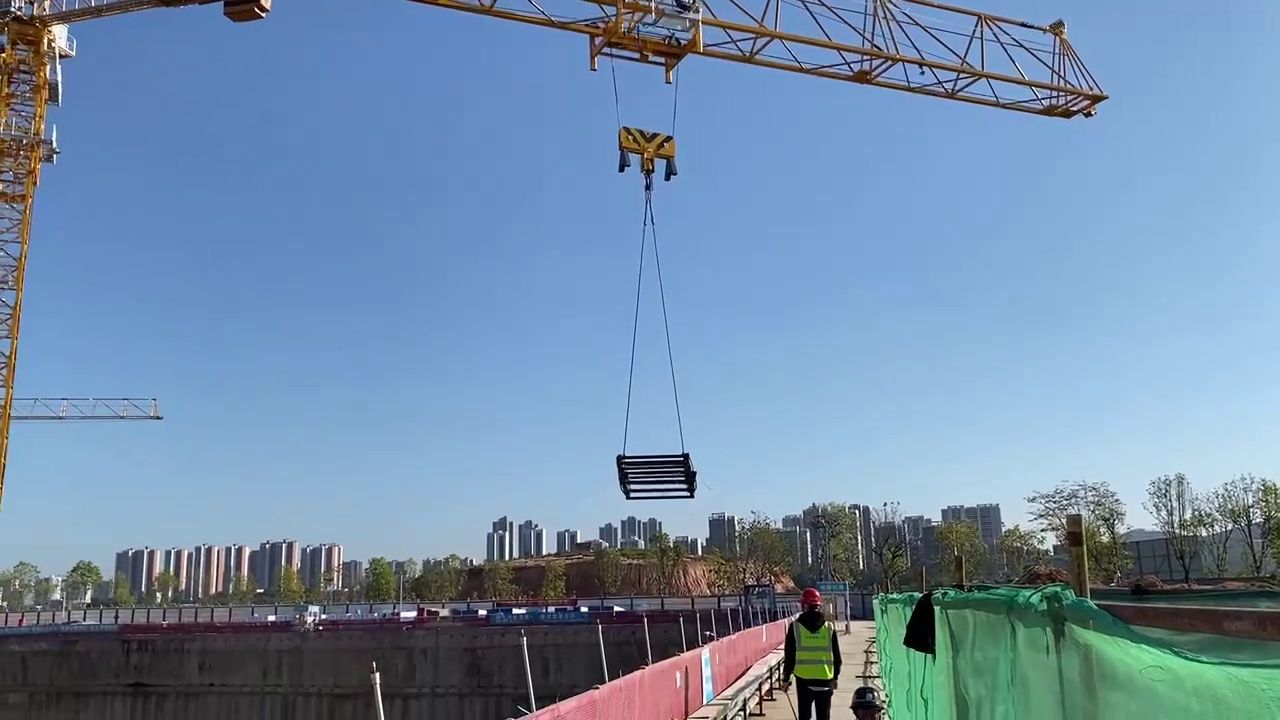fence: (521, 619, 784, 719)
helmet: (851, 686, 884, 706), (799, 589, 822, 607)
hook: (615, 128, 679, 178)
person: (786, 584, 840, 718)
vest: (790, 619, 835, 684)
